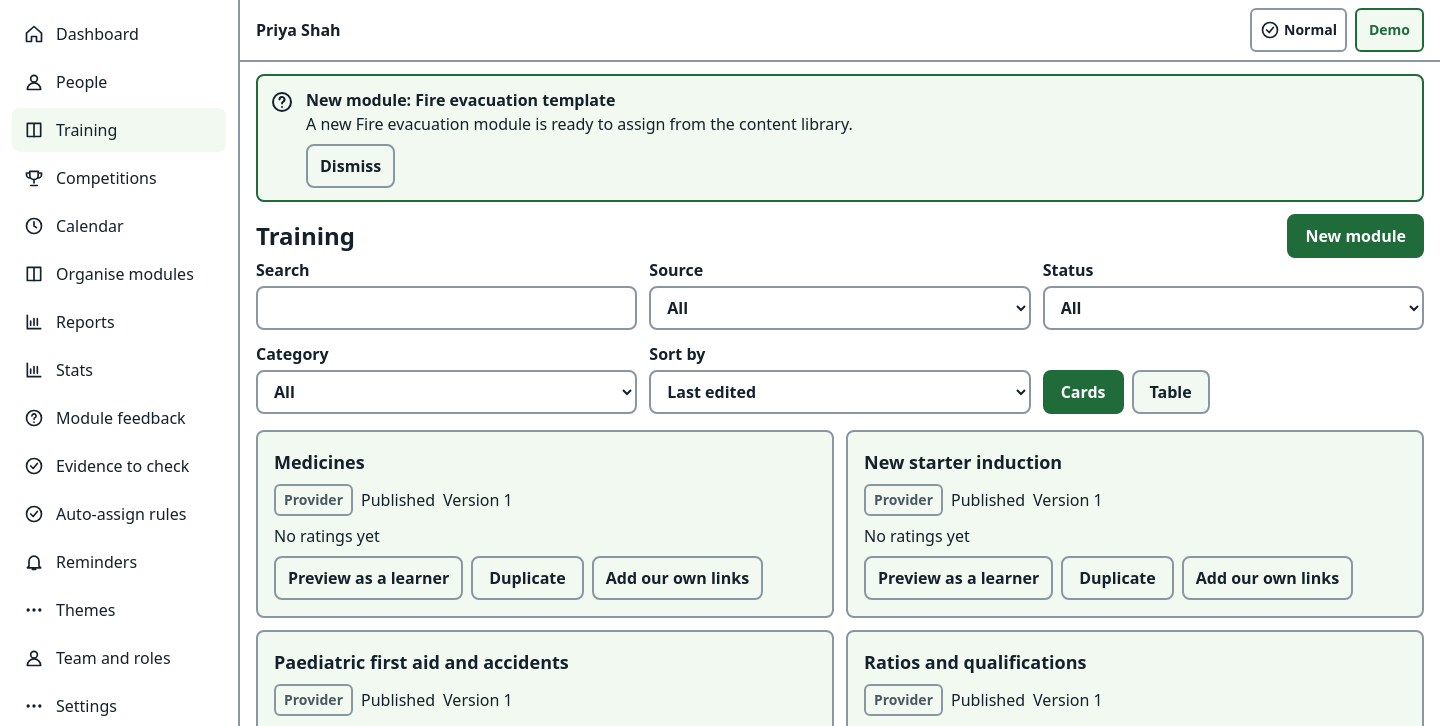
C6 Module Library › filters by source and by status
Select "Own" in the dropdown labelled "Source": (840, 308) [649,286,1031,330]
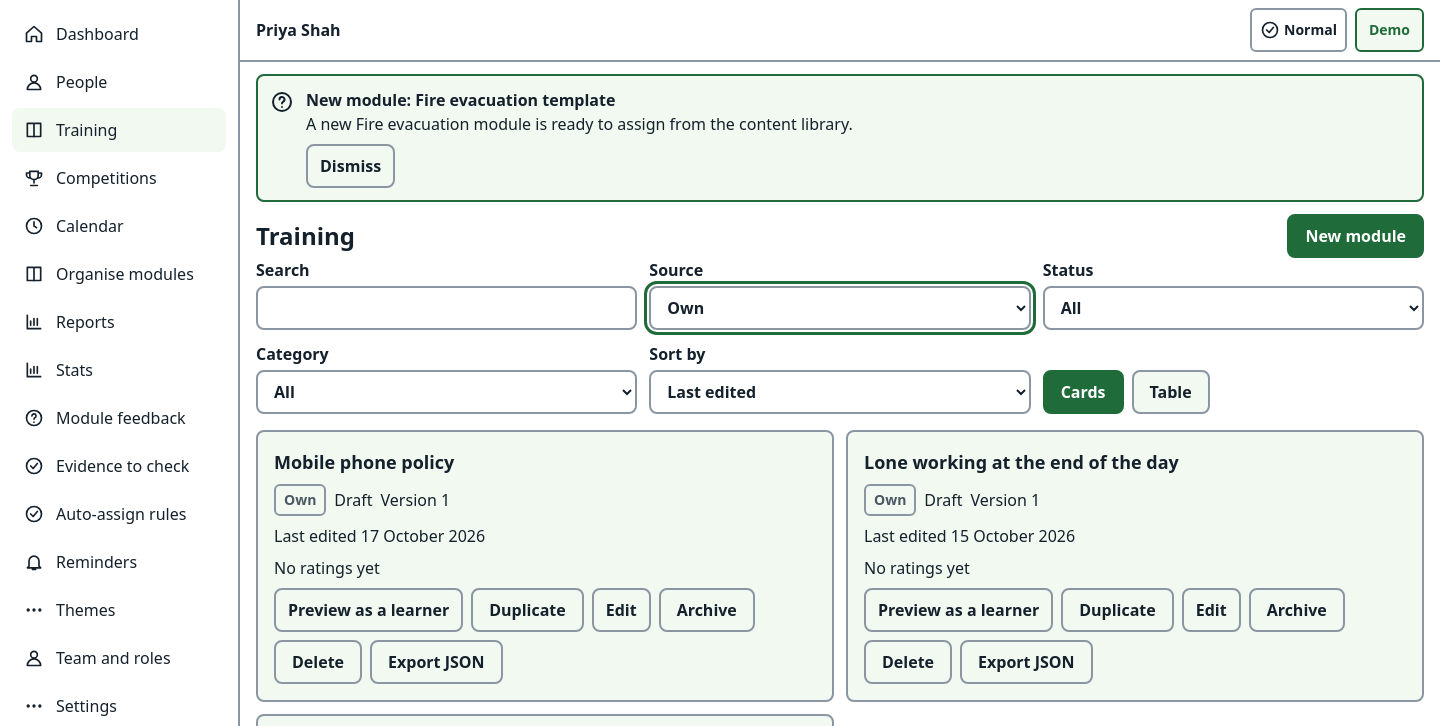
Select "Draft" in the dropdown labelled "Status": (1233, 308) [1043,286,1424,330]
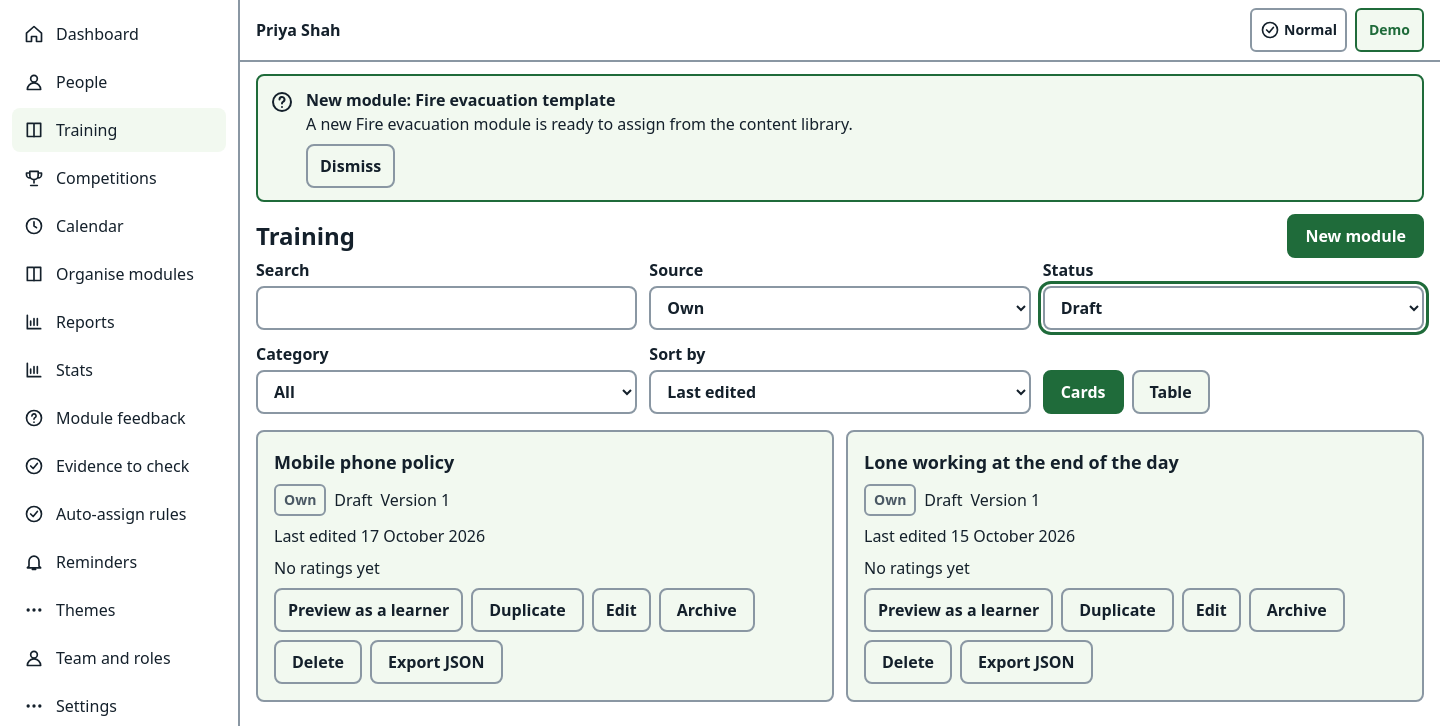
Select "Provider" in the dropdown labelled "Source": (840, 308) [649,286,1031,330]
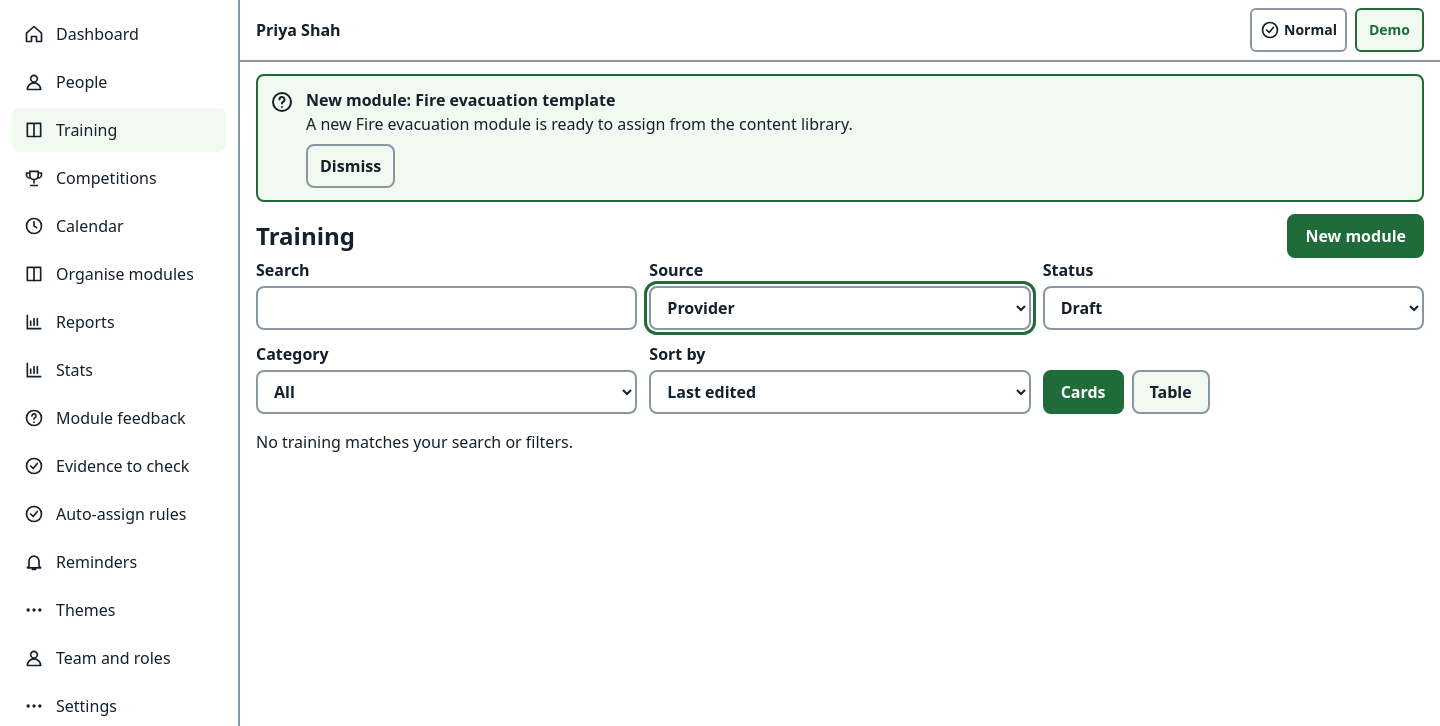
Now the text "No training matches your search or filters." is shown, box [256,431,573,453]
Now no list items with test id "module-item" are shown
